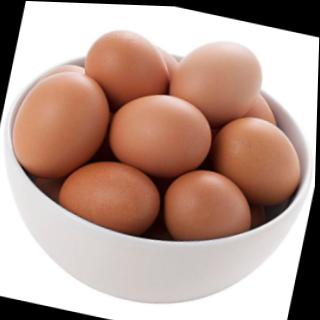Egg: (5, 62, 114, 198), (142, 155, 259, 256), (101, 85, 222, 182), (45, 150, 167, 246), (206, 109, 314, 205), (171, 33, 267, 120), (72, 22, 169, 100)
